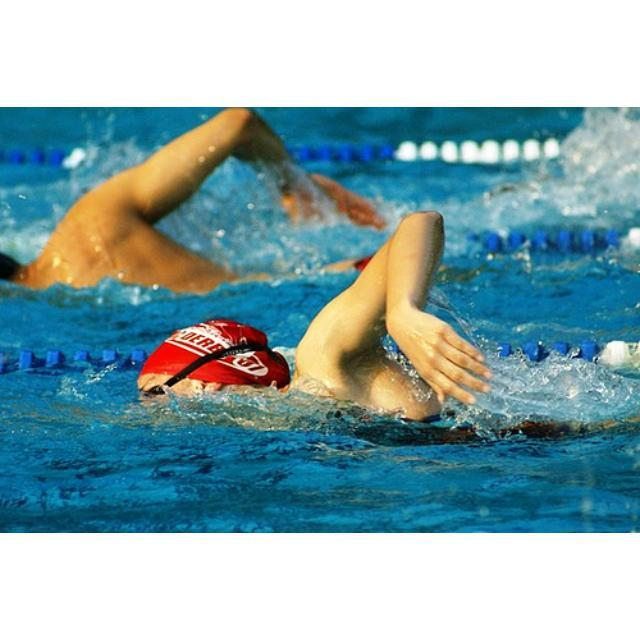human: (130, 209, 494, 440), (1, 108, 387, 296)
